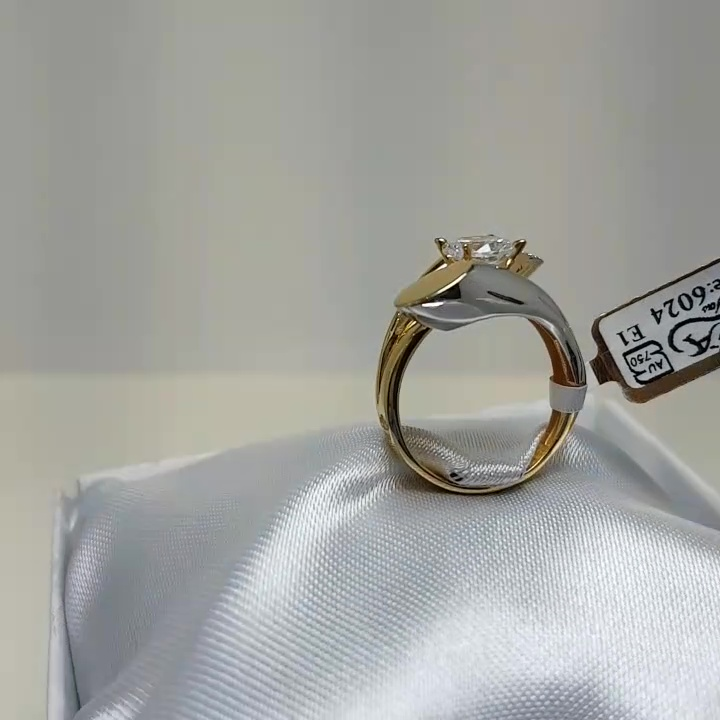Ring 7: (358, 225, 596, 505)
